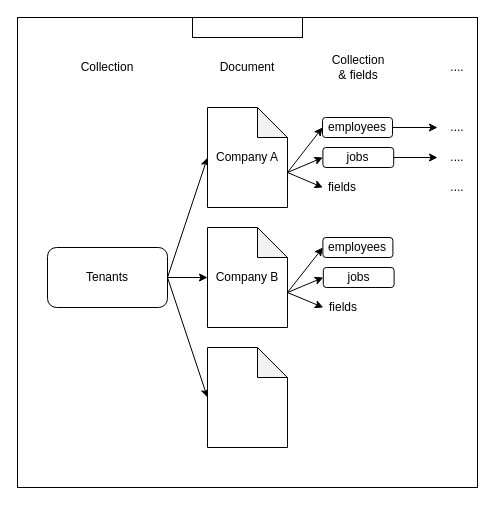
Image size: 495x505. Some labels were removed from this diagram. The centre of each missing label's shape, as x and y in pixels:
"Company C" goes at (247,397).
"Database model" goes at (247,27).
